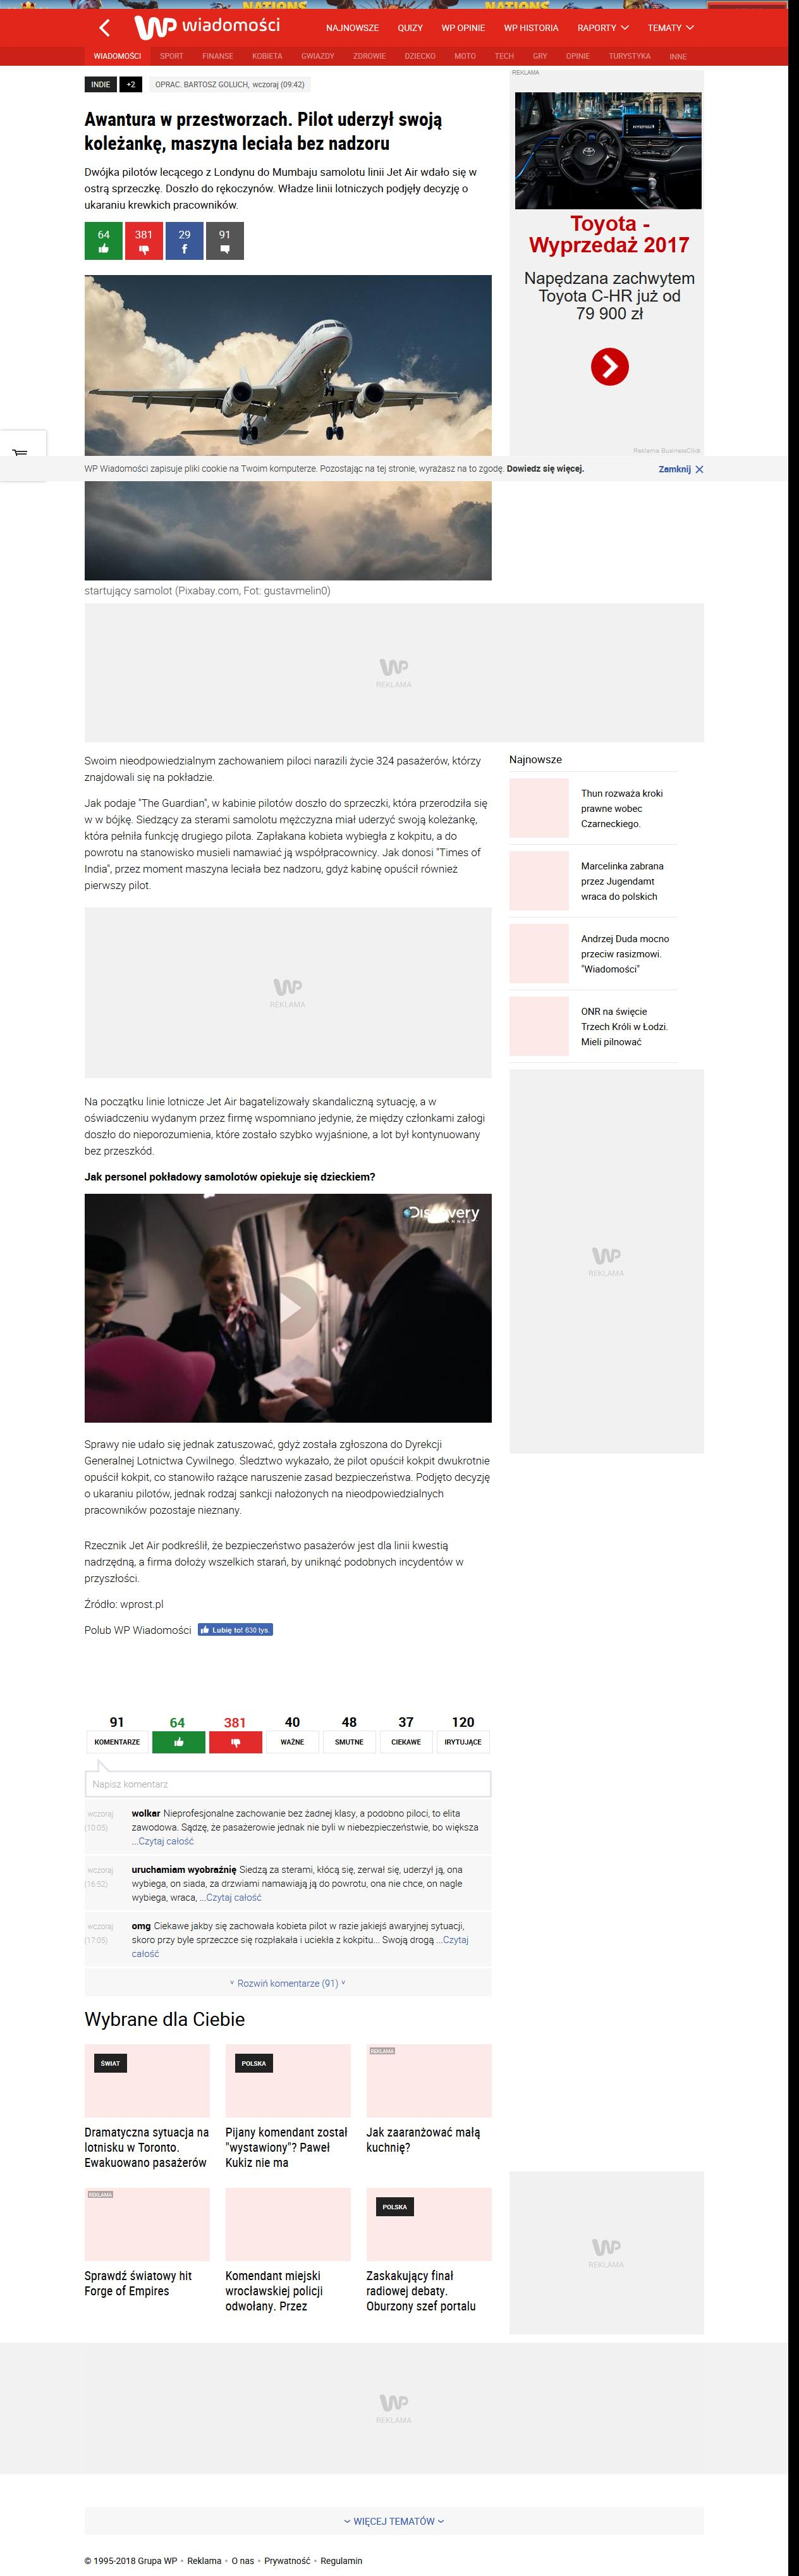title: (84, 110, 444, 153)
